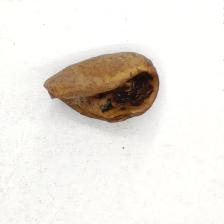NG: (44, 71, 159, 121)
